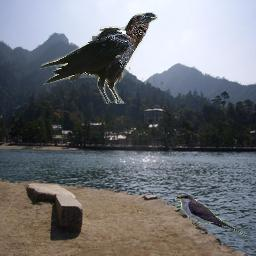Crow: (39, 12, 158, 104)
Cuckoo: (175, 194, 246, 236)
